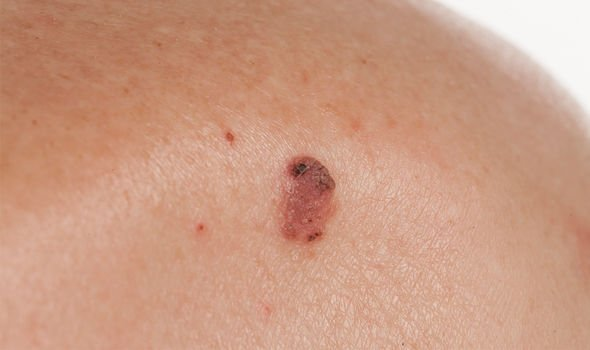melanoma: (202, 77, 399, 308)
